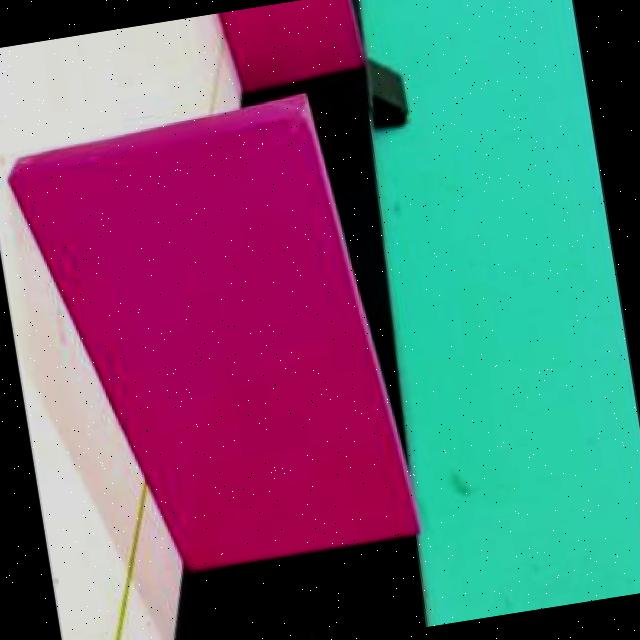xparking: (25, 116, 362, 553), (226, 0, 348, 73)
